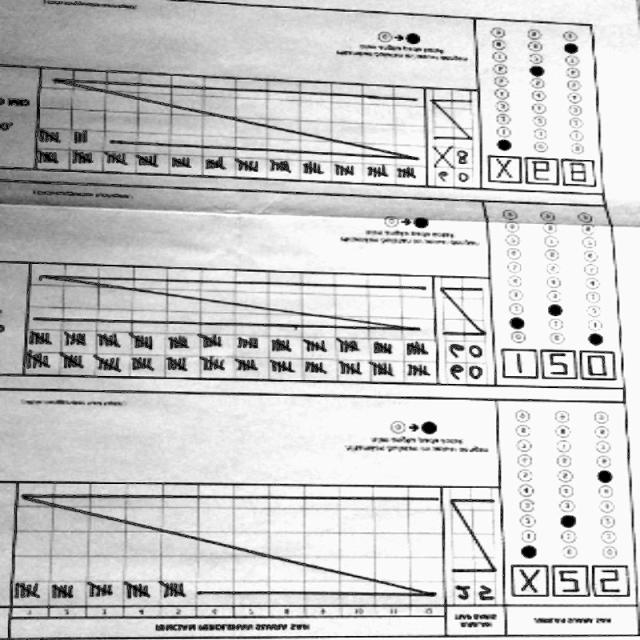Suara: (502, 350, 624, 384), (504, 568, 628, 600), (480, 158, 598, 188)
